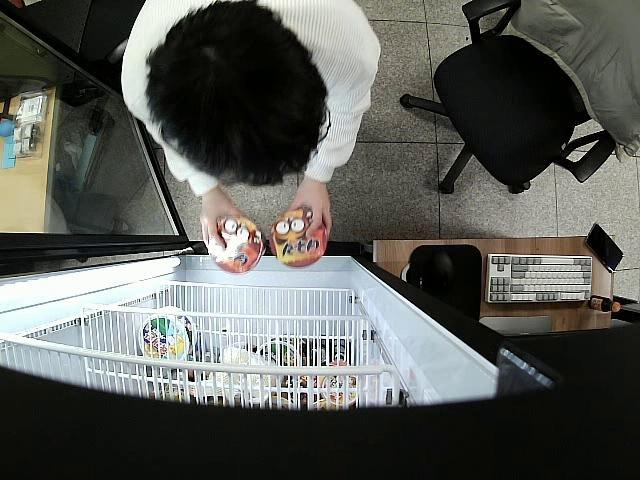05_nuguri_L: (204, 218, 264, 274), (271, 210, 326, 266)
